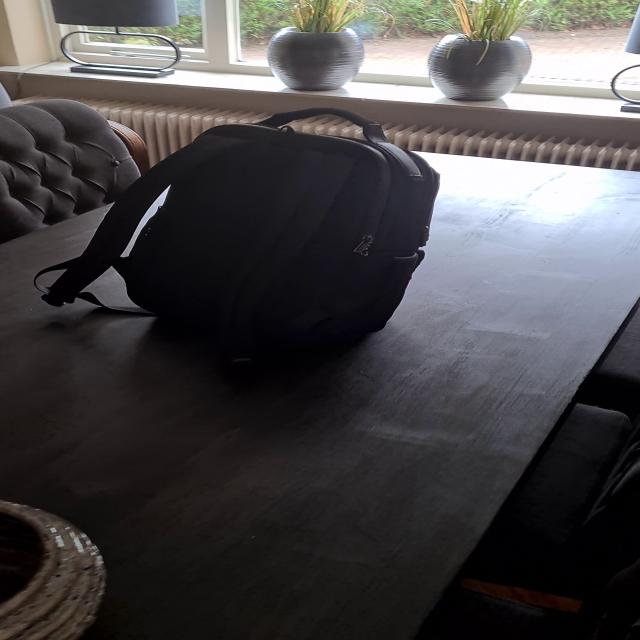backpack: (27, 101, 452, 378)
